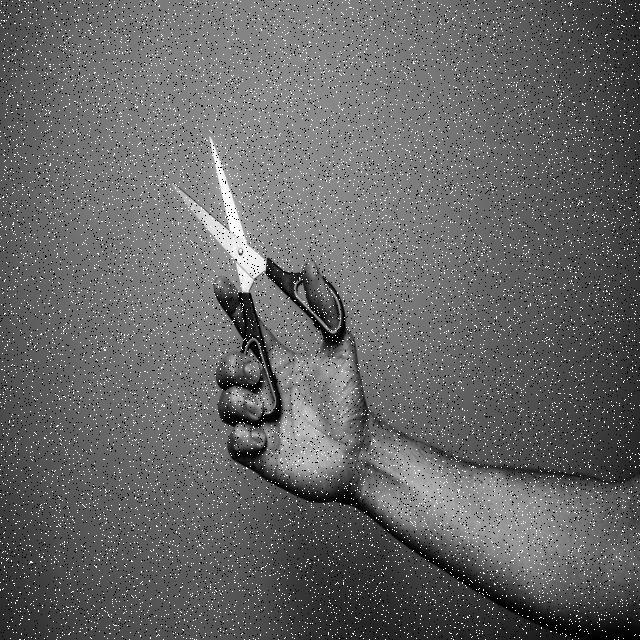scissors: (170, 129, 349, 426)
